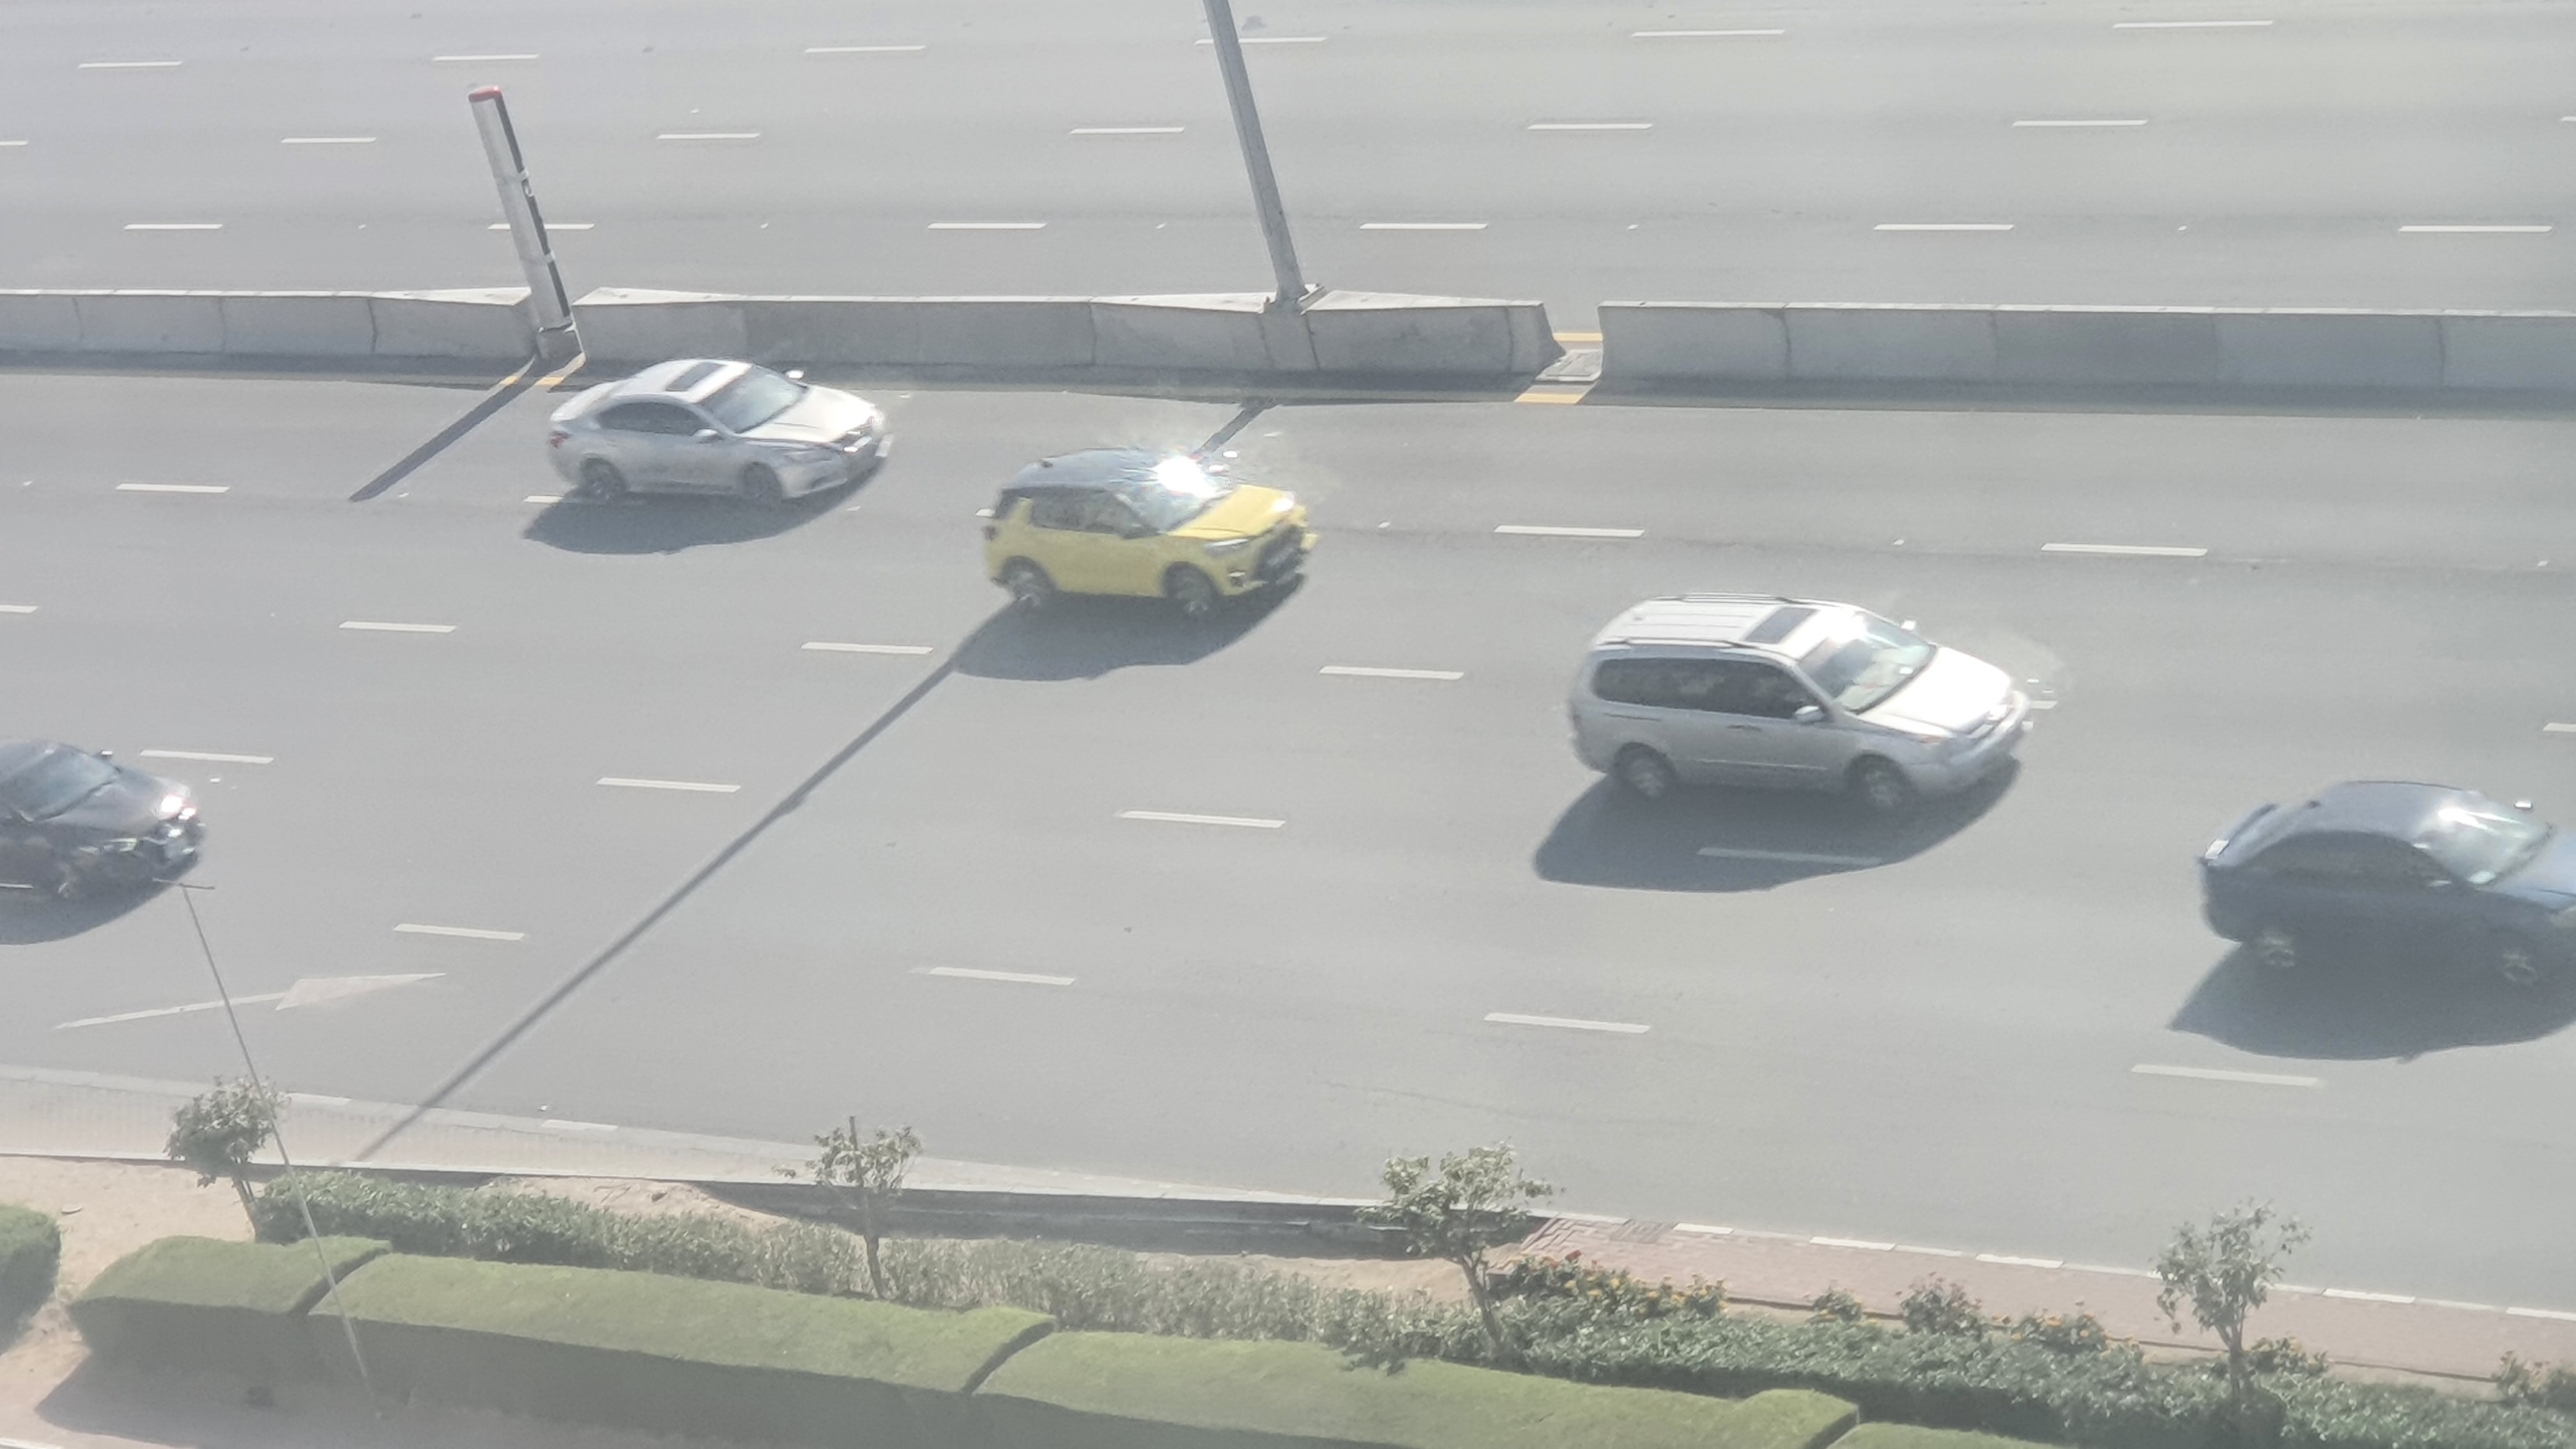NotSunroof: (2203, 775, 2576, 987), (0, 741, 195, 901)
Sunroof: (1566, 584, 2033, 817), (543, 343, 890, 522), (978, 449, 1318, 621)
